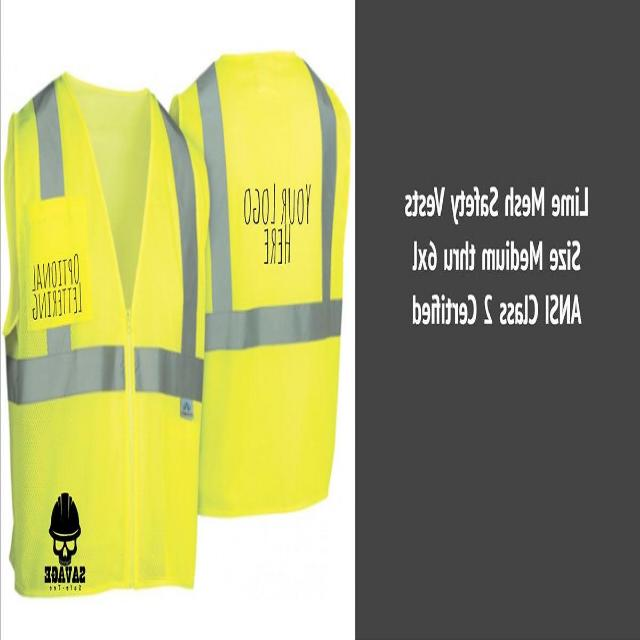Reflective-Jacket: (0, 67, 216, 615), (169, 44, 357, 536)
